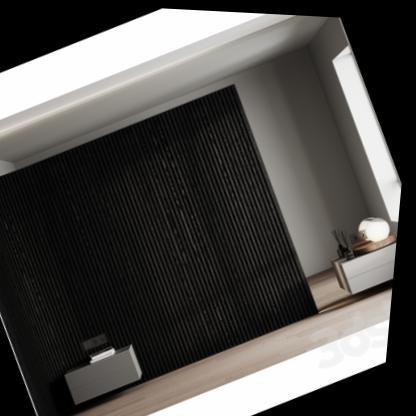Wall Panel: (0, 82, 325, 416)
Wooden floor: (78, 281, 398, 416)
